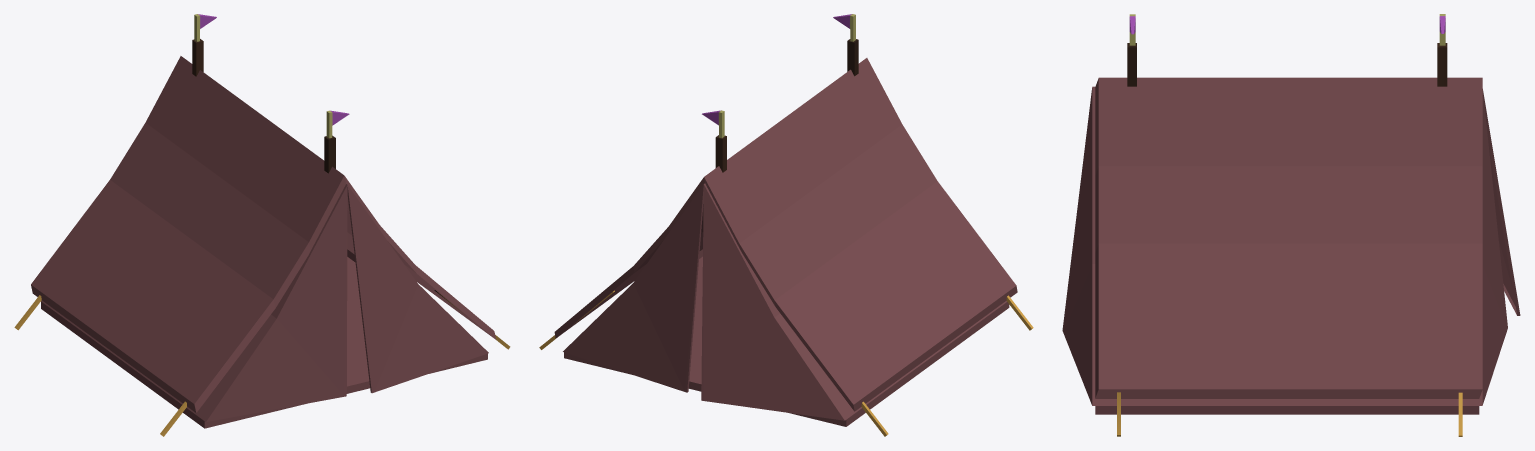
File: new_tent.glb
3 renders of one model, left to right at view 1: azimuth 30°, elevation 25°; view 2: azimuth 150°, elevation 25°; view 3: azimuth 270°, elevation 25°, orthographic. The views are drawn at different scales.
Parts seen in each view (by area): view 1: New Tent; view 2: New Tent; view 3: New Tent.
Part boxes in pixels (x1,y1,x2,y2): New Tent: [14, 14, 510, 436]; New Tent: [539, 14, 1033, 436]; New Tent: [1062, 14, 1520, 436].
Bounding box in the file's own units: 2.46 × 1.88 × 2.39.
